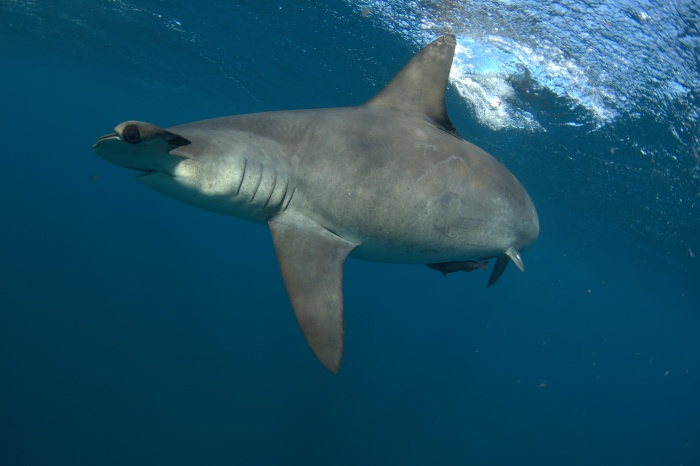Hammer: (95, 22, 569, 389)
